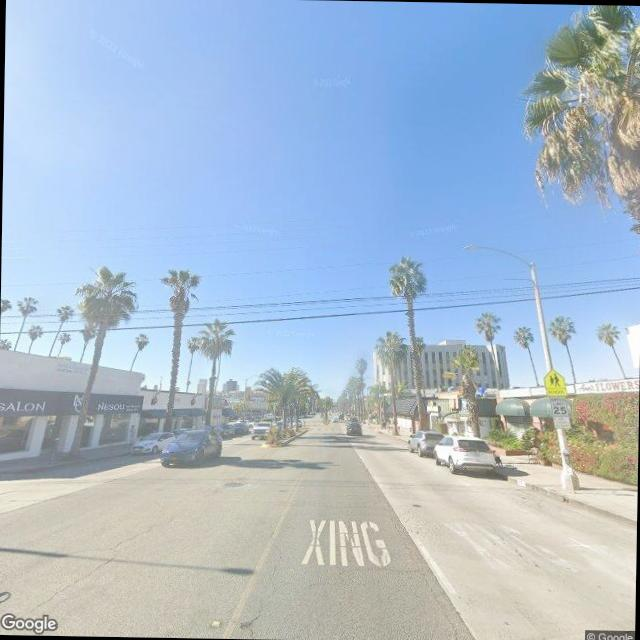crack: (24, 511, 168, 614)
